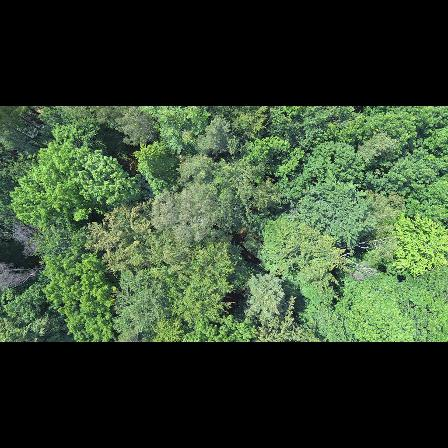Dead: (0, 223, 54, 257), (0, 262, 54, 290)
